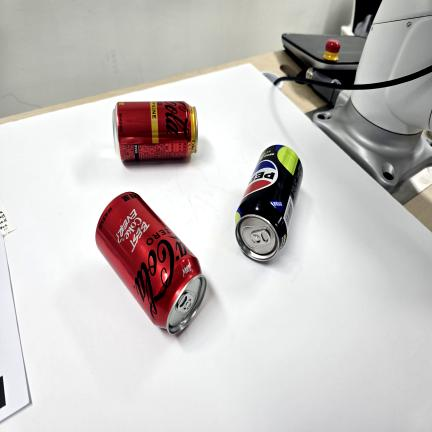can_coke_decaf: (108, 101, 197, 171)
can_coke_zero: (93, 190, 209, 340)
can_pepsi_zero: (232, 145, 305, 265)
